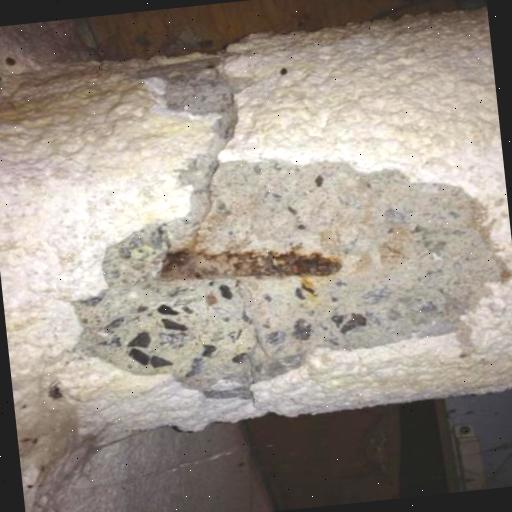spalling: (73, 60, 500, 406)
